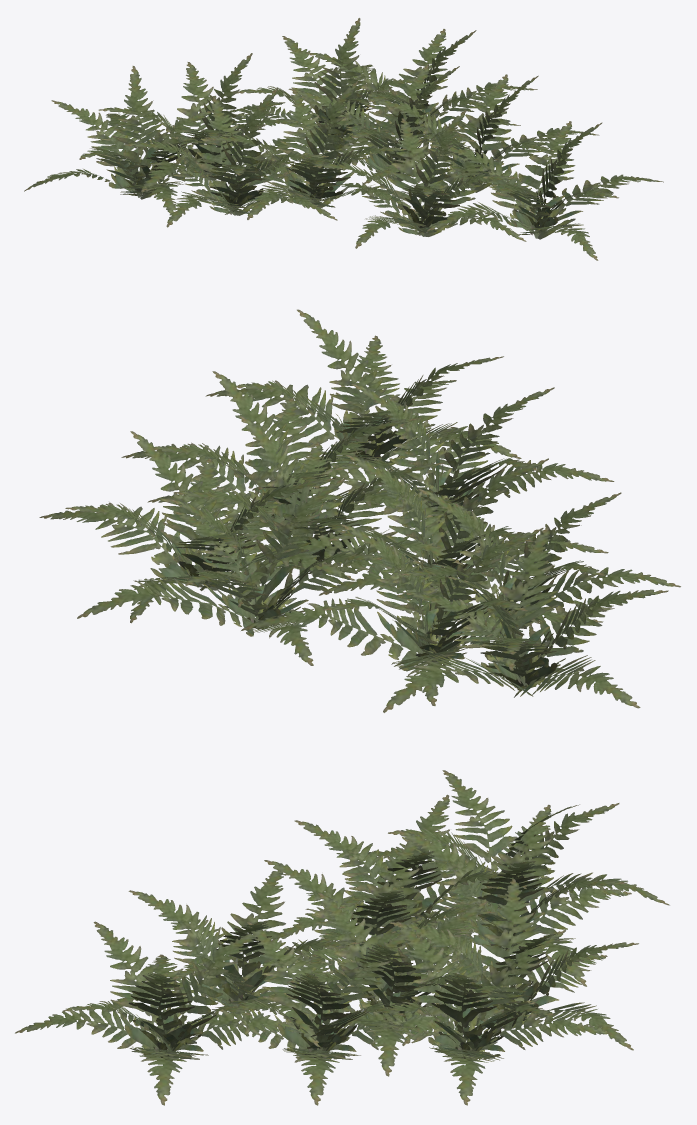
Rendered from fern-grass.lod1.glb.
3 renders of one model, top to bottom at view 1: azimuth 30°, elevation 25°; view 2: azimuth 150°, elevation 25°; view 3: azimuth 270°, elevation 25°, orthographic. The views are drawn at different scales.
Visible parts, largest first — view 1: Object_2; view 2: Object_2; view 3: Object_2.
Boxes of the visible parts, x1,y1,x2,y2 form: Object_2: (24, 18, 663, 260); Object_2: (39, 309, 680, 712); Object_2: (15, 770, 669, 1105).
Size of the model in its own units: 3.63 by 0.8 by 3.57.
Materials: 1 (1 with a texture image).
